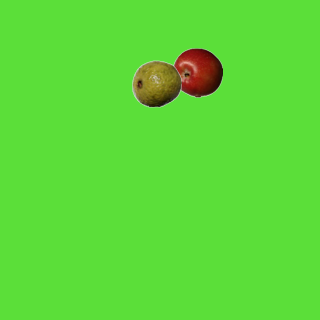Apple Braeburn: (172, 47, 222, 97)
Guava: (131, 58, 181, 108)
